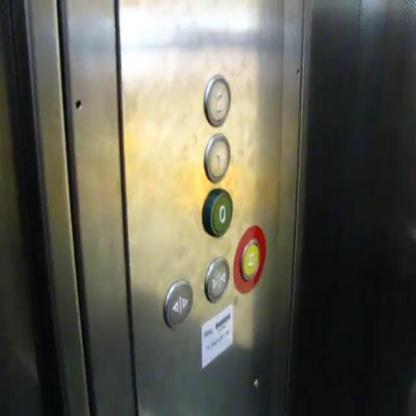0: (201, 186, 233, 239)
1: (204, 130, 230, 183)
2: (202, 72, 233, 126)
alarm: (238, 236, 262, 284)
close: (203, 256, 229, 304)
open: (158, 277, 192, 330)
